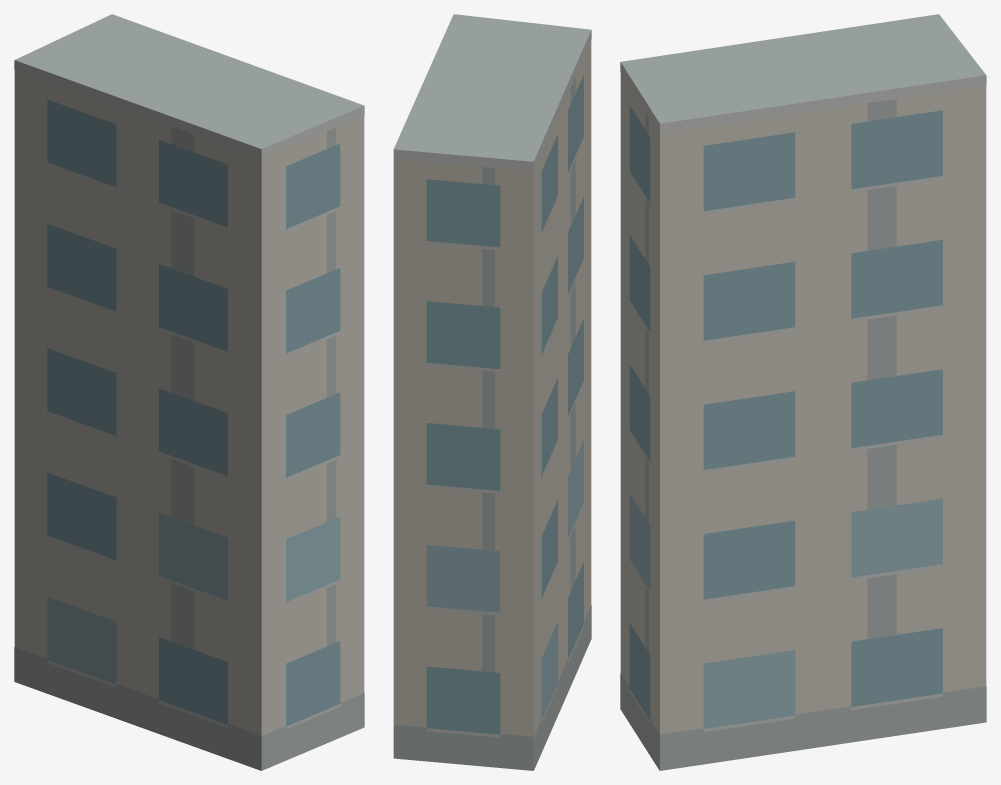
The model's file is survey-upis-32644726.glb.
The picture shows the model from 3 angles, left to right: view 1: azimuth 30°, elevation 25°; view 2: azimuth 150°, elevation 25°; view 3: azimuth 270°, elevation 25°; orthographic projection. The views are drawn at different scales.
Visible parts, largest first — view 1: survey-upis-32644726.tmp; view 2: survey-upis-32644726.tmp; view 3: survey-upis-32644726.tmp.
Part boxes in pixels (<box>): survey-upis-32644726.tmp: <box>14,14,364,770</box>; survey-upis-32644726.tmp: <box>393,14,591,770</box>; survey-upis-32644726.tmp: <box>620,14,986,770</box>.
Bounding box in the file's own units: 5.55 × 15.25 × 7.82.
